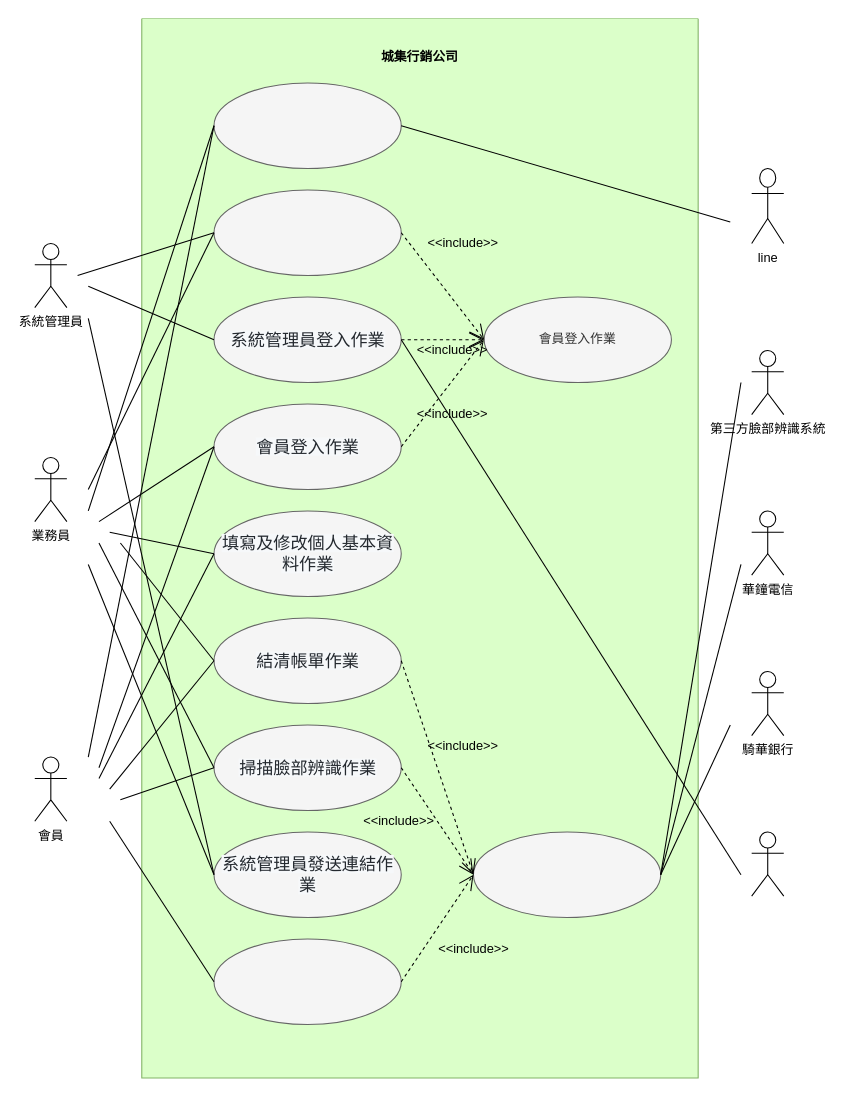
Some shapes in this 843 by 1097 pixel diagram are drawn without their labels. Each missing label, with the centre of its shape:
控管會員進出作業: (x=307, y=981)
會員進出作業: (x=566, y=874)
聯絡會員集辦理會員手續作業: (x=307, y=125)
註冊業務員作業: (x=307, y=232)
資料庫: (x=767, y=863)
